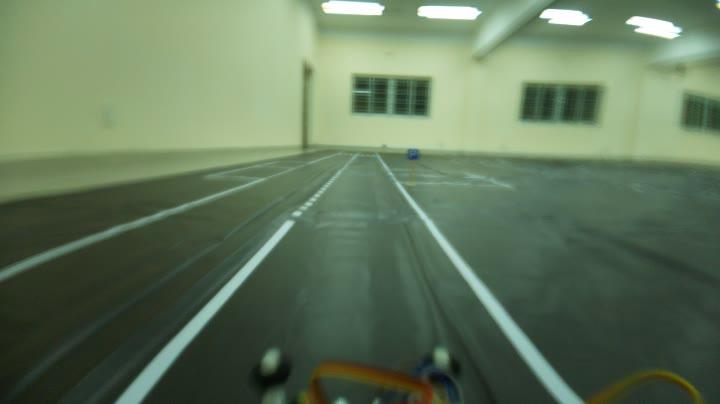parking: (401, 144, 424, 164)
